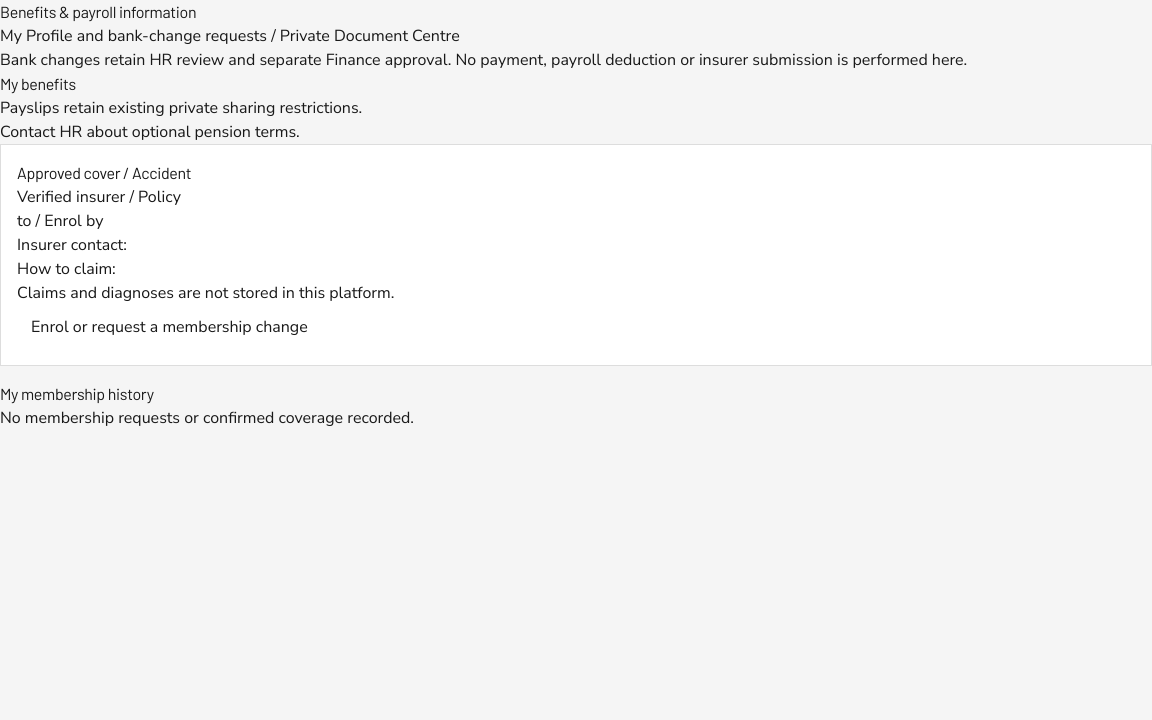
Test: accident cover supports beneficiaries and identifies the total-share requirement
Click the button "Enrol or request a membership change". click: (169, 327)
box: [17, 305, 322, 349]
(page scrolled)
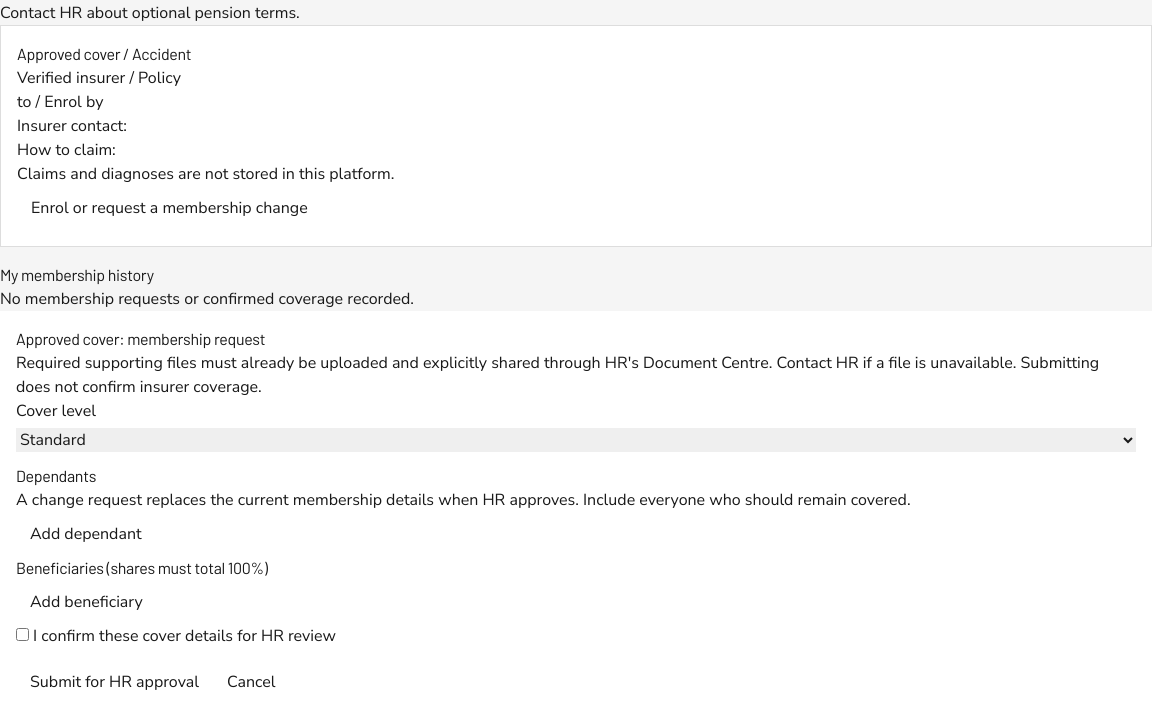
Expected: the button "Add beneficiary" is shown
Click the button "Add beneficiary". click: (86, 602)
box: [16, 580, 157, 624]
(page scrolled)
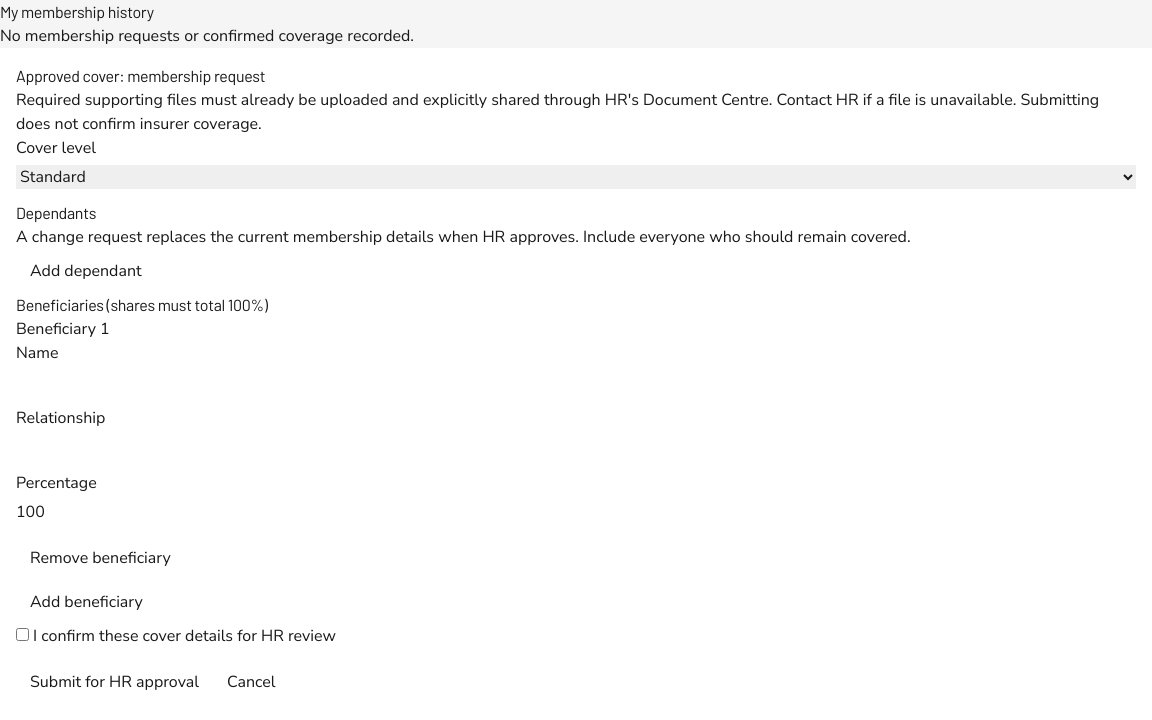
Expected: the text "shares must total 100%" is shown, [16, 295, 268, 314]
Expected: the number field labelled "Percentage" holds "100", [16, 500, 1136, 524]
